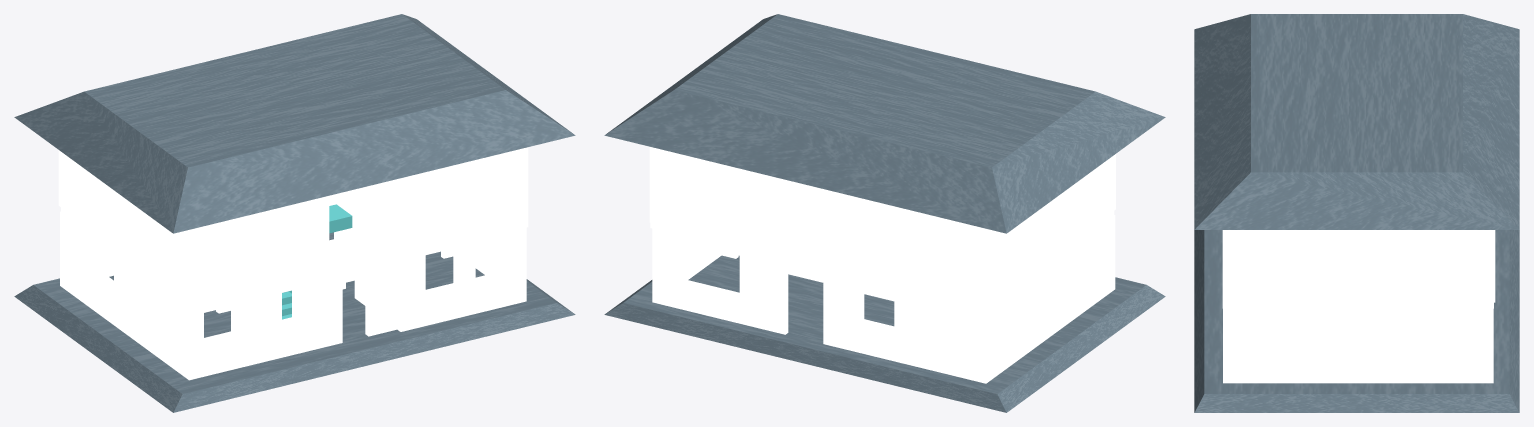
File: HousePlan.fbx
3 renders of one model, left to right at view 1: azimuth 30°, elevation 25°; view 2: azimuth 150°, elevation 25°; view 3: azimuth 270°, elevation 25°, orthographic. The views are drawn at different scales.
Visible parts, largest first — view 1: Roof, FirstFloor, SecondFloor, BottomGround, Ceiling, Steps; view 2: Roof, SecondFloor, FirstFloor, BottomGround, Ceiling; view 3: Roof, FirstFloor, SecondFloor, BottomGround, Ceiling.
Boxes of the visible parts, x1,y1,x2,y2 form: Roof: (14, 14, 575, 233); FirstFloor: (60, 211, 526, 380); SecondFloor: (58, 147, 528, 300); BottomGround: (14, 232, 575, 412); Ceiling: (61, 175, 528, 305); Steps: (282, 204, 352, 319); Roof: (604, 14, 1165, 233); SecondFloor: (649, 147, 1115, 304); FirstFloor: (652, 215, 1115, 383); BottomGround: (604, 255, 1165, 412); Ceiling: (650, 184, 1114, 309); Roof: (1194, 14, 1519, 229); FirstFloor: (1223, 308, 1493, 383); SecondFloor: (1222, 230, 1495, 302); BottomGround: (1194, 230, 1519, 412); Ceiling: (1222, 302, 1493, 308).
Size of the model in its own units: 7154 by 3649 by 4899.
